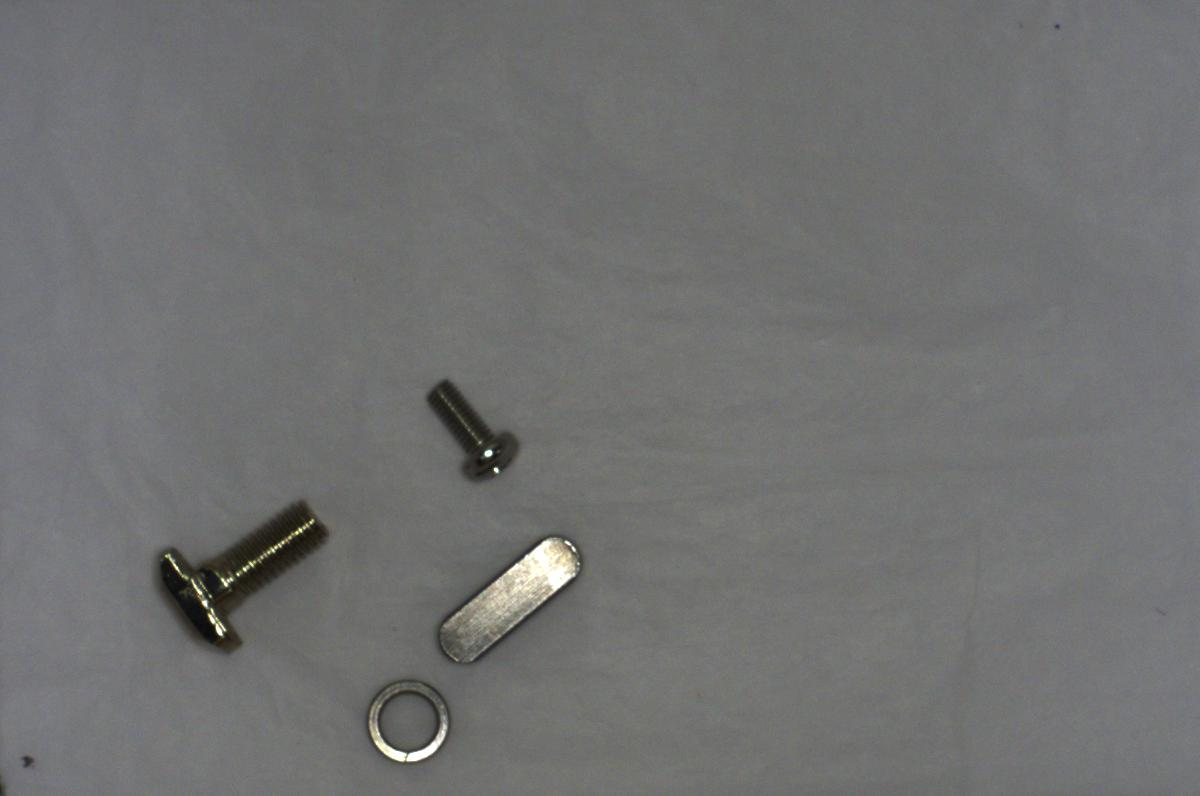Keybar: (431, 520, 593, 672)
Round head screw: (412, 374, 530, 485)
Spring washer: (361, 678, 457, 776)
T-shaped screw: (140, 480, 332, 667)
